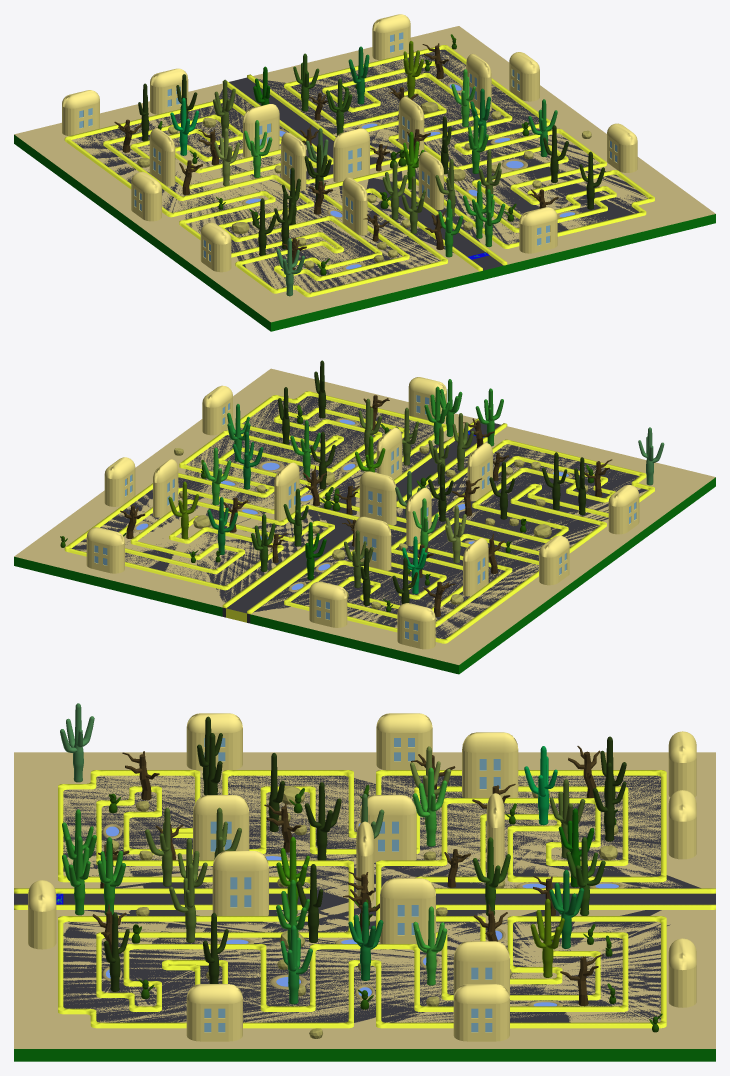
The model's file is Map3.fbx.
3 renders of one model, top to bottom at view 1: azimuth 30°, elevation 25°; view 2: azimuth 150°, elevation 25°; view 3: azimuth 270°, elevation 25°, orthographic. The views are drawn at different scales.
Visible parts, largest first — view 1: Cube.078, Cube.043, Cube.049, Cube.039, Cube.040, Cube.038, Cube.046, Cube.037, Cube.041, Cube.031, Cube.036, Cube.045 (+27 smaller); view 2: Cube.078, Cube.043, Cube.038, Cube.040, Cube.039, Cube.046, Cube.031, Cube.037, Cube.041, Cube.045, Cube.036, Cube.032 (+29 smaller); view 3: Cube.078, Cube.034, Cube.045, Cube.042, Cube.031, Cube.036, Cube.041, Cube.044, Cube.048, Cube.037, Cube.032, Cube.038 (+38 smaller).
Part boxes in pixels (x1,y1,x2,y2): Cube.078: (14,26,715,331); Cube.043: (333,128,369,182); Cube.049: (519,207,557,253); Cube.039: (372,14,410,60); Cube.040: (62,90,99,135); Cube.038: (150,68,188,114); Cube.046: (243,104,279,157); Cube.037: (200,222,231,272); Cube.041: (131,171,161,221); Cube.031: (509,52,539,101); Cube.036: (607,123,637,172); Cube.045: (149,128,175,186); Cube.078: (14,368,715,674); Cube.043: (359,471,396,525); Cube.038: (309,581,347,627); Cube.040: (397,603,435,649); Cube.039: (86,527,124,573); Cube.046: (354,516,391,570); Cube.031: (104,457,135,506); Cube.037: (608,485,639,534); Cube.041: (539,535,569,585); Cube.045: (463,538,488,596); Cube.036: (202,385,232,435); Cube.032: (153,459,178,517); Cube.078: (14,752,715,1061); Cube.034: (212,851,268,915); Cube.045: (462,732,518,797); Cube.042: (380,878,435,945); Cube.031: (453,984,509,1041); Cube.036: (186,984,242,1041); Cube.041: (376,713,432,769); Cube.044: (360,795,416,862); Cube.048: (193,795,249,860); Cube.037: (186,713,242,770); Cube.032: (453,941,509,997); Cube.038: (668,790,696,859).
Bounding box in the file's own units: 10000 × 1414 × 10000.
